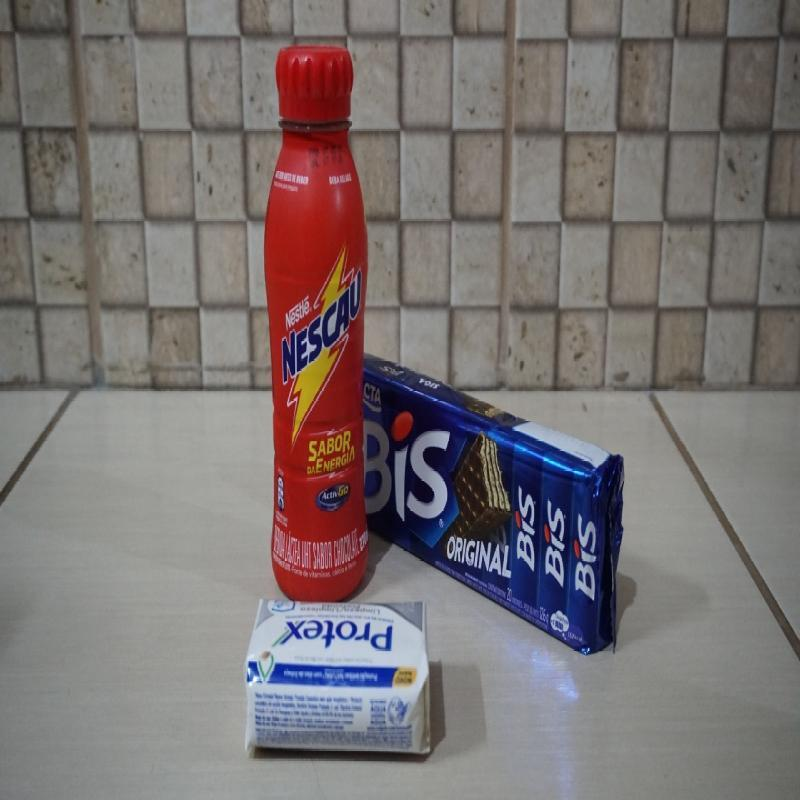Chocolate Milk: (261, 44, 373, 598)
Soap: (240, 598, 432, 764)
